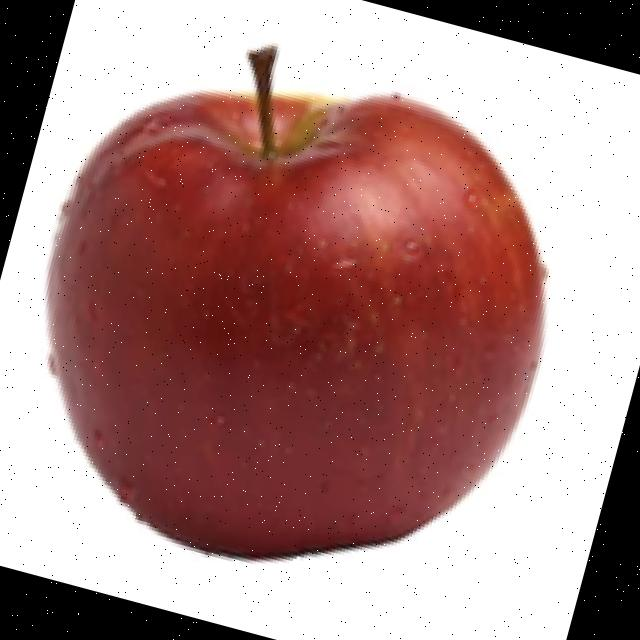apple: (39, 38, 551, 564)
